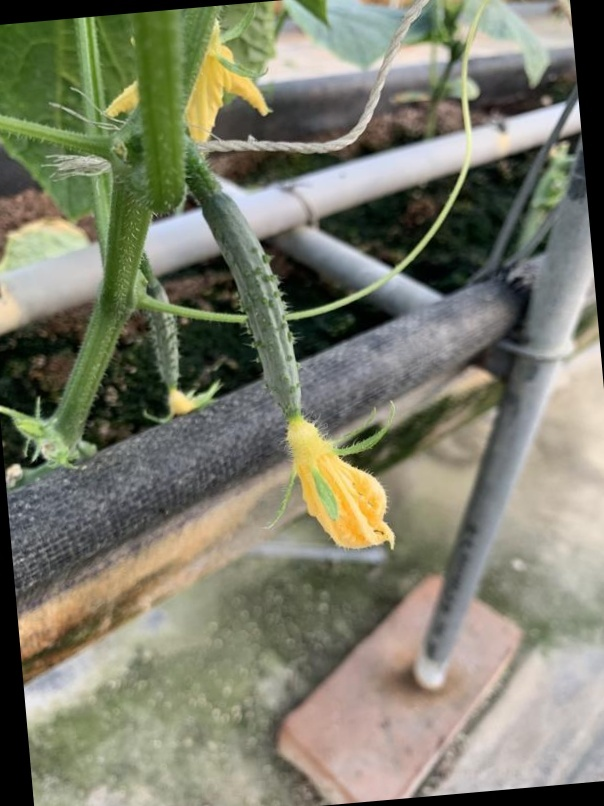bear: (194, 190, 382, 532)
